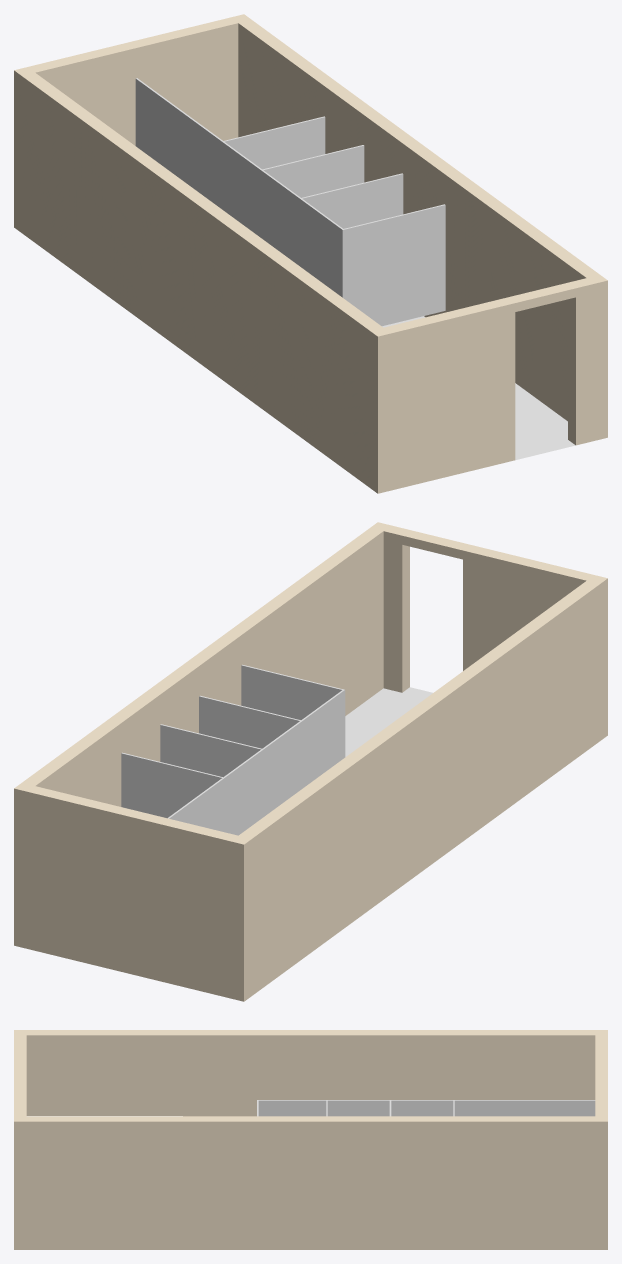
File: bathroom_test.glb
The picture shows the model from 3 angles, top to bottom: view 1: azimuth 30°, elevation 25°; view 2: azimuth 150°, elevation 25°; view 3: azimuth 270°, elevation 25°; orthographic projection. The views are drawn at different scales.
Parts seen in each view (by area): view 1: object_4, object_5, object_11, object_21, object_17, object_13, object_1, object_20, object_16, object_10, object_7, object_6; view 2: object_4, object_17, object_5, object_21, object_11, object_1, object_10, object_7, object_20, object_16; view 3: object_4, object_13, object_7, object_16, object_10, object_20.
Part boxes in pixels (<box>): object_4: <box>14,14,607,493</box>; object_5: <box>344,204,445,326</box>; object_11: <box>301,173,403,228</box>; object_21: <box>262,145,364,197</box>; object_17: <box>224,116,325,169</box>; object_13: <box>135,78,180,177</box>; object_1: <box>382,316,575,460</box>; object_20: <box>226,144,258,234</box>; object_16: <box>187,116,219,206</box>; object_10: <box>265,172,297,263</box>; object_7: <box>304,201,336,291</box>; object_6: <box>335,224,344,298</box>; object_4: <box>14,522,607,1001</box>; object_17: <box>121,752,222,818</box>; object_5: <box>241,664,342,719</box>; object_21: <box>160,724,261,777</box>; object_11: <box>199,695,300,748</box>; object_1: <box>345,687,432,756</box>; object_10: <box>266,723,298,813</box>; object_7: <box>305,695,337,785</box>; object_20: <box>227,752,259,835</box>; object_16: <box>188,780,220,831</box>; object_4: <box>14,1030,607,1249</box>; object_13: <box>524,1100,595,1116</box>; object_7: <box>269,1100,320,1116</box>; object_16: <box>460,1100,511,1116</box>; object_10: <box>333,1100,383,1116</box>; object_20: <box>397,1100,447,1116</box>.
Bounding box in the file's own units: 3.47 × 2.26 × 9.5.
